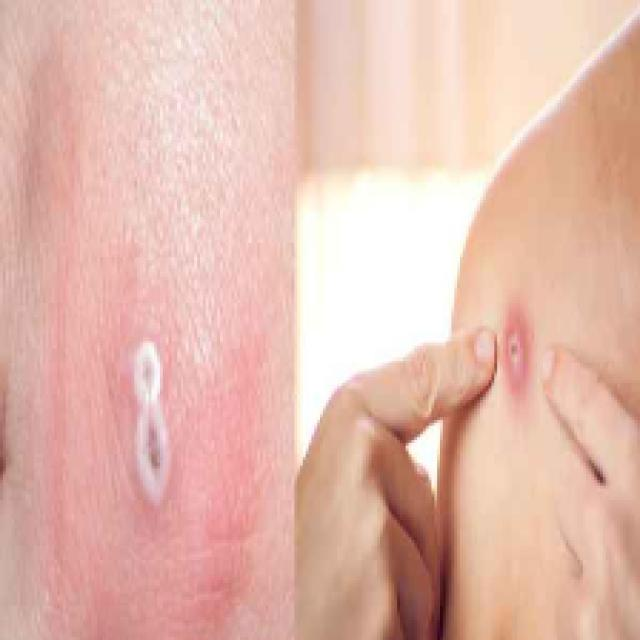Eczema: (112, 334, 191, 506), (500, 300, 538, 402)
